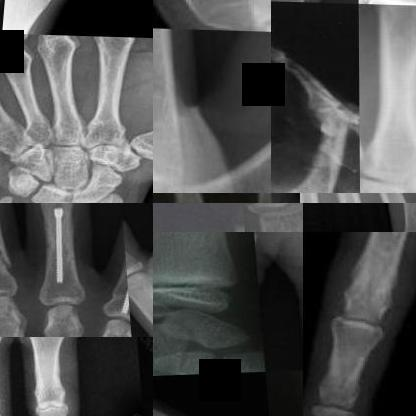fracture: (37, 203, 81, 302), (106, 228, 125, 329), (153, 232, 232, 247), (74, 114, 111, 145), (209, 203, 243, 232)
